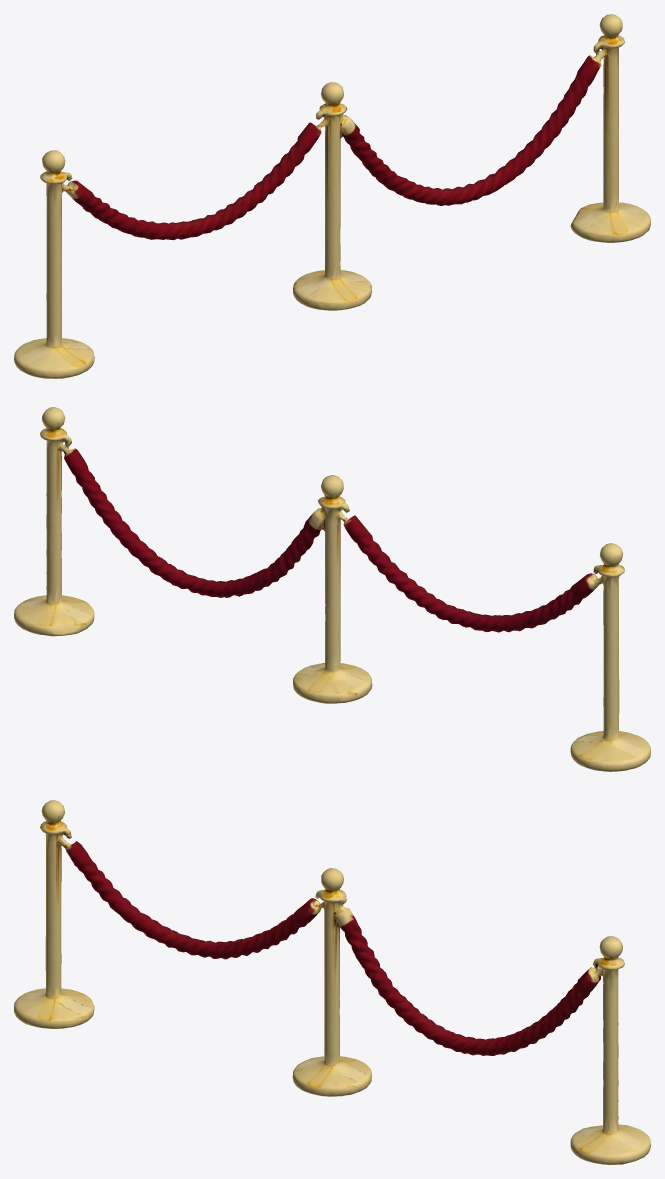
The model's file is red_velvet_rope_barriers.glb.
3 renders of one model, top to bottom at view 1: azimuth 30°, elevation 25°; view 2: azimuth 150°, elevation 25°; view 3: azimuth 330°, elevation 25°, orthographic.
Visible parts, largest first — view 1: Object_4; view 2: Object_4; view 3: Object_4.
Boxes of the visible parts, left/top/right/bottom form: Object_4: left=14, top=14, right=650, bottom=378; Object_4: left=14, top=407, right=650, bottom=771; Object_4: left=14, top=800, right=650, bottom=1164.
Bounding box in the file's own units: 1.92 × 0.6207 × 0.2112.
Materials: 1 (1 with a texture image).
